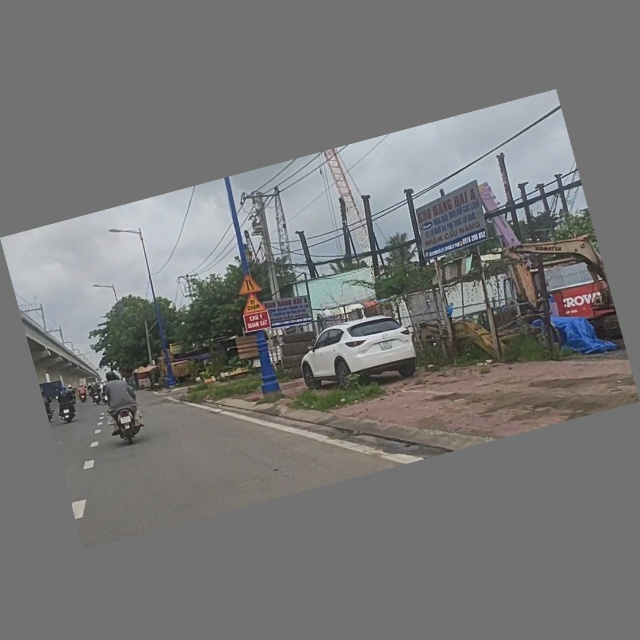W.203c: (234, 272, 263, 298)
W.245a: (239, 292, 268, 316)
